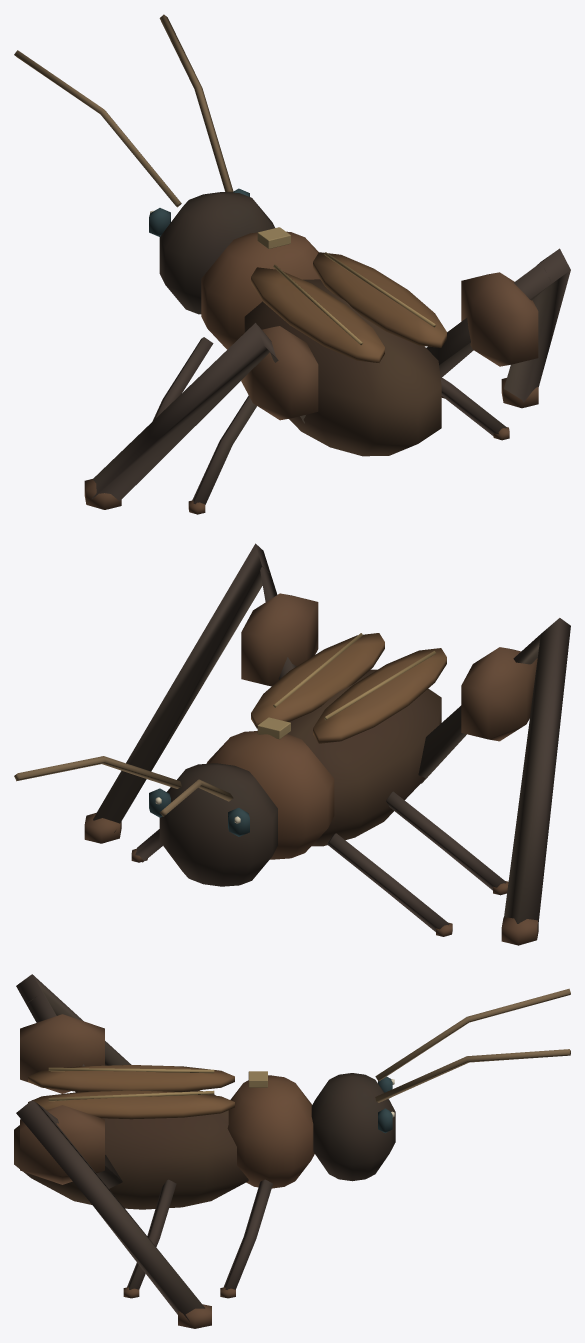
Rendered from insect_cricket.glb.
The picture shows the model from 3 angles, top to bottom: view 1: azimuth 30°, elevation 25°; view 2: azimuth 150°, elevation 25°; view 3: azimuth 270°, elevation 25°; orthographic projection. The views are drawn at different scales.
Parts seen in each view (by area): view 1: Model; view 2: Model; view 3: Model.
Boxes of the visible parts, left/top/right/bottom form: Model: left=14, top=14, right=570, bottom=514; Model: left=14, top=543, right=570, bottom=945; Model: left=14, top=974, right=570, bottom=1328.
Bounding box in the file's own units: 0.1346 × 0.0751 × 0.17.
